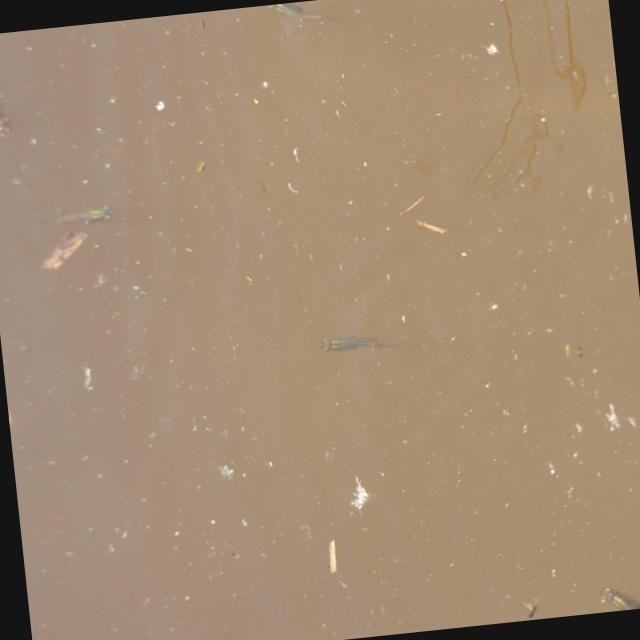Sivrisinek Baligi: (314, 318, 404, 366), (36, 192, 116, 236), (596, 577, 640, 612)
